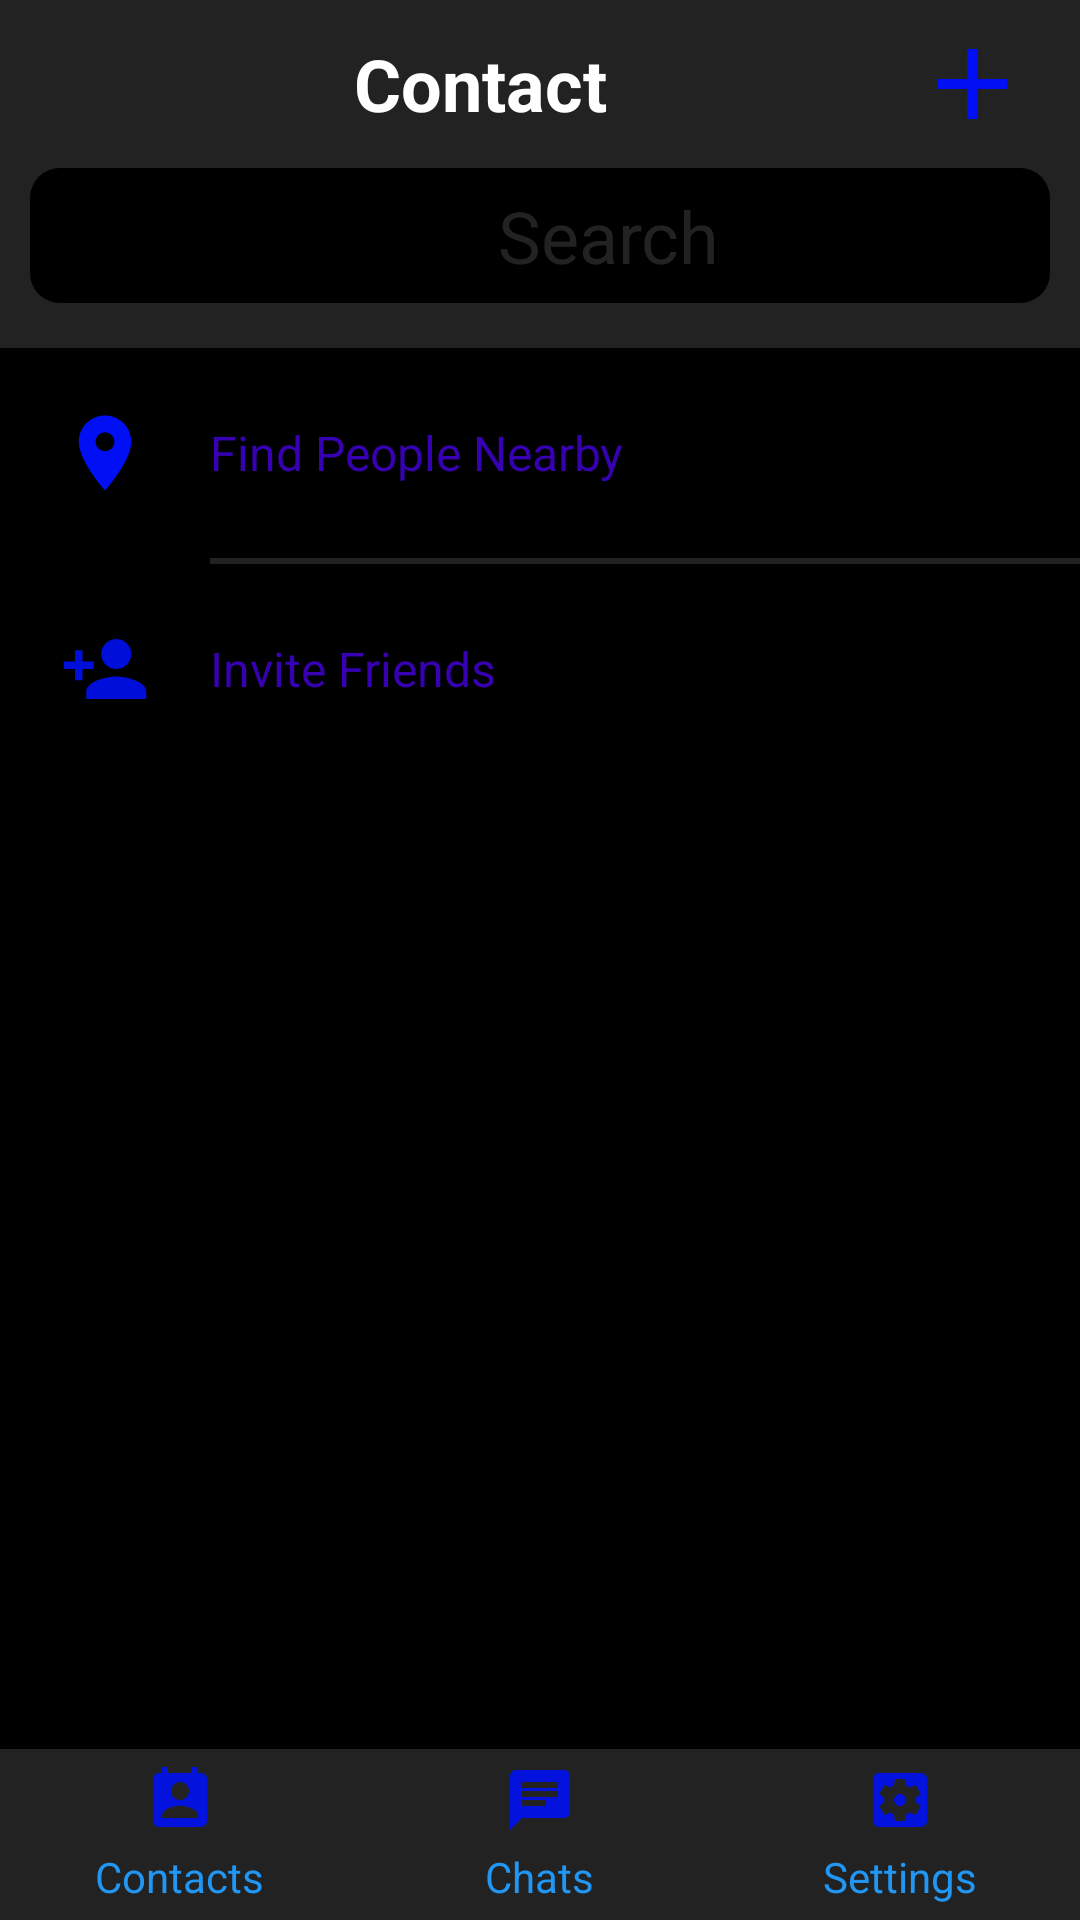

Icon bounding boxes for this 1080px x 1920px phone screenshot, format {"x1": x1, "y1": y1, "x2": x2, "y2": y2}:
location on: {"x1": 78, "y1": 415, "x2": 132, "y2": 490}
perm contact calendar: {"x1": 153, "y1": 1767, "x2": 207, "y2": 1827}
person add: {"x1": 63, "y1": 639, "x2": 147, "y2": 699}
